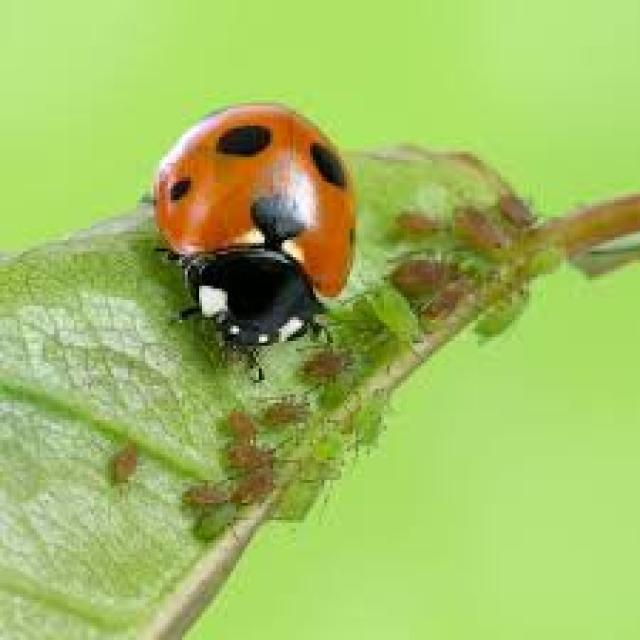ladybug: (154, 103, 353, 346)
